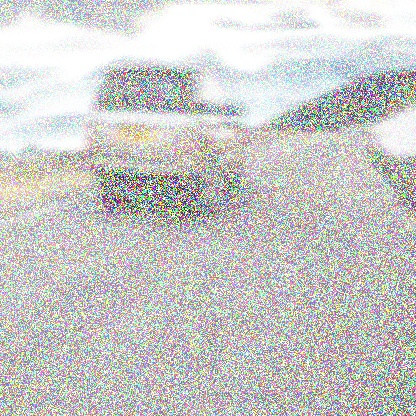Vehicle: (85, 59, 248, 216)
